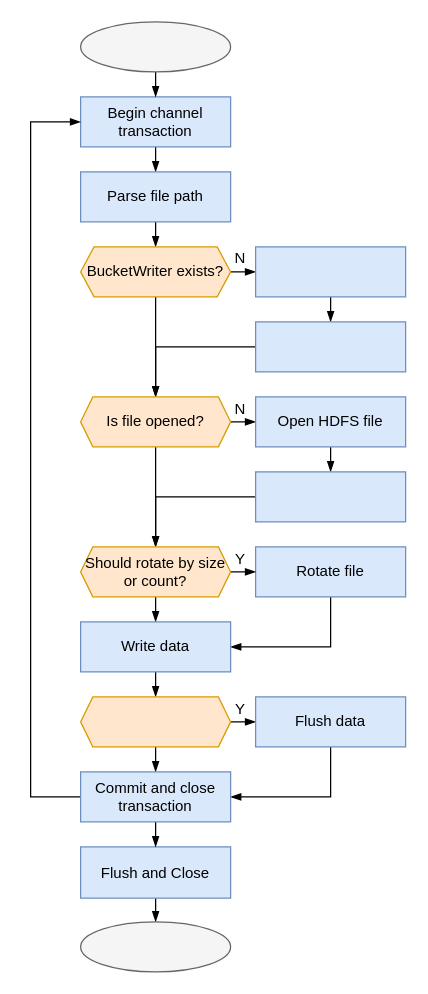
This 428x994 diagram has some shape labels left out. The box of each missing label's shape, as (x1, y1, x2, y2) in pixels:
Create HDFSWriter: (254, 321, 406, 372)
Initialize BucketWriter: (254, 246, 406, 297)
Should flush based on batch size?: (79, 696, 231, 747)
Start: (79, 21, 231, 72)
Start time-based rolling: (254, 471, 406, 522)
Stop: (79, 921, 231, 972)
